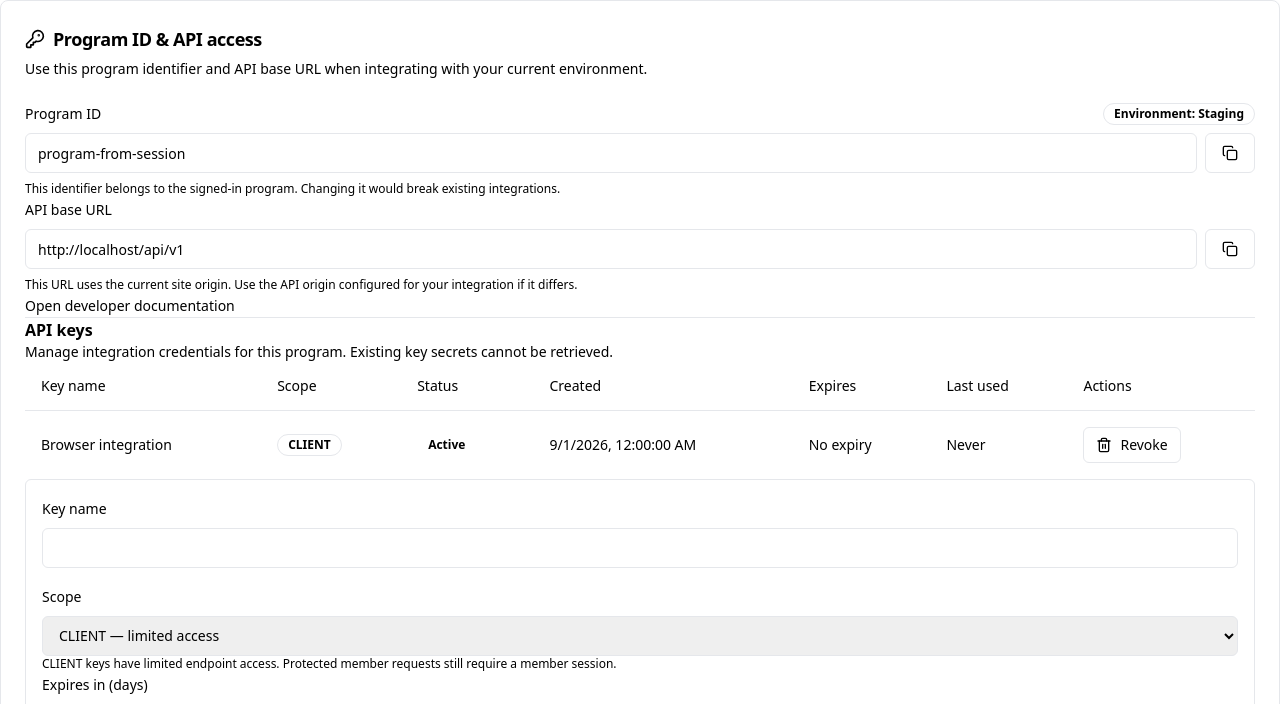
Test case: API access settings › requires a revoke confirmation and updates the metadata after revocation
The image size is (1280, 704).
Click the button with aria-label "Revoke Browser integration" at (1132, 444), box [1083,426,1181,462]
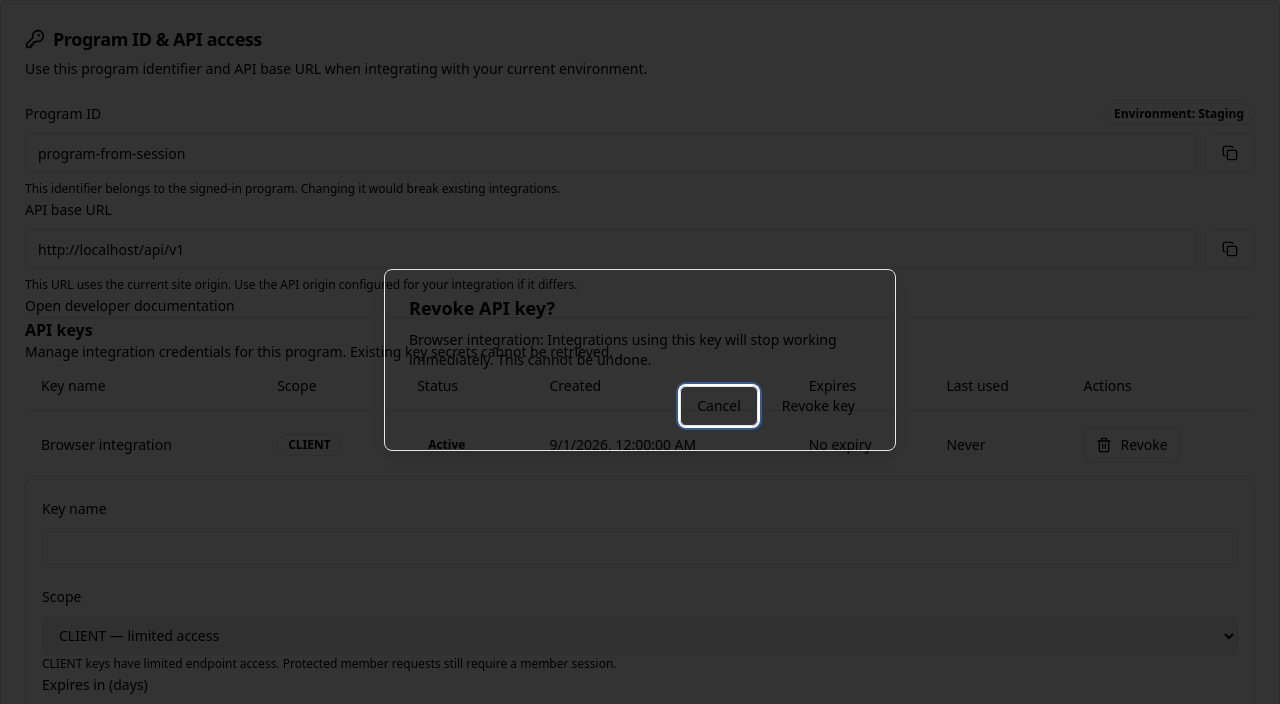
Result: the text "Integrations using this key will stop working immediately" is shown at [409,330,837,369]
Click the button "Cancel" at (719, 406), box [680,386,758,426]
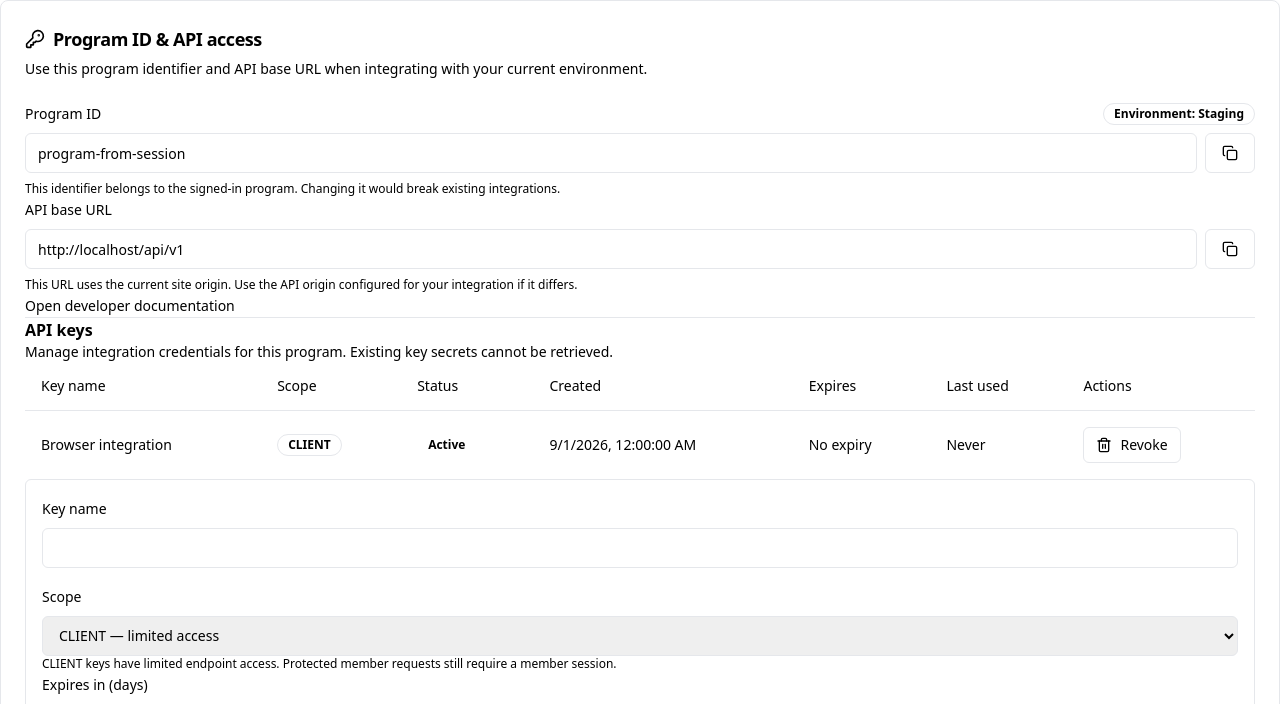
Click the button with aria-label "Revoke Browser integration" at (1132, 444), box [1083,426,1181,462]
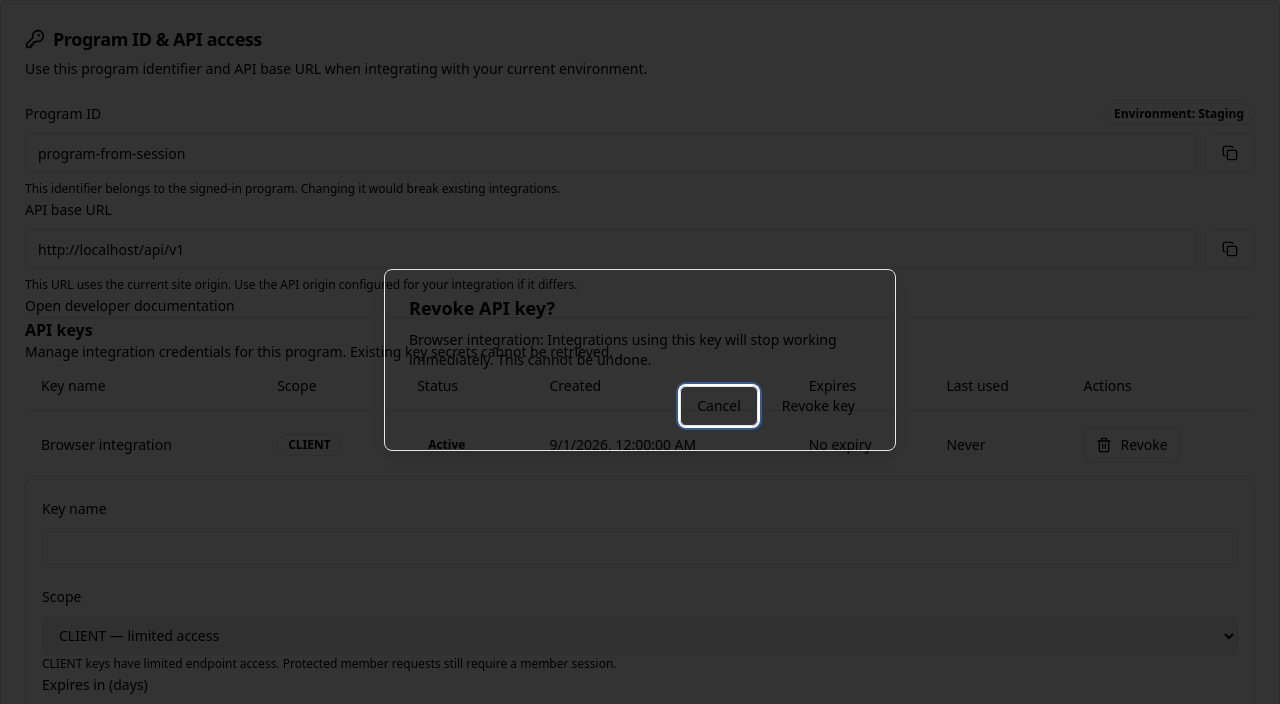
Click the button "Revoke key" at (818, 406), box [766,386,871,426]
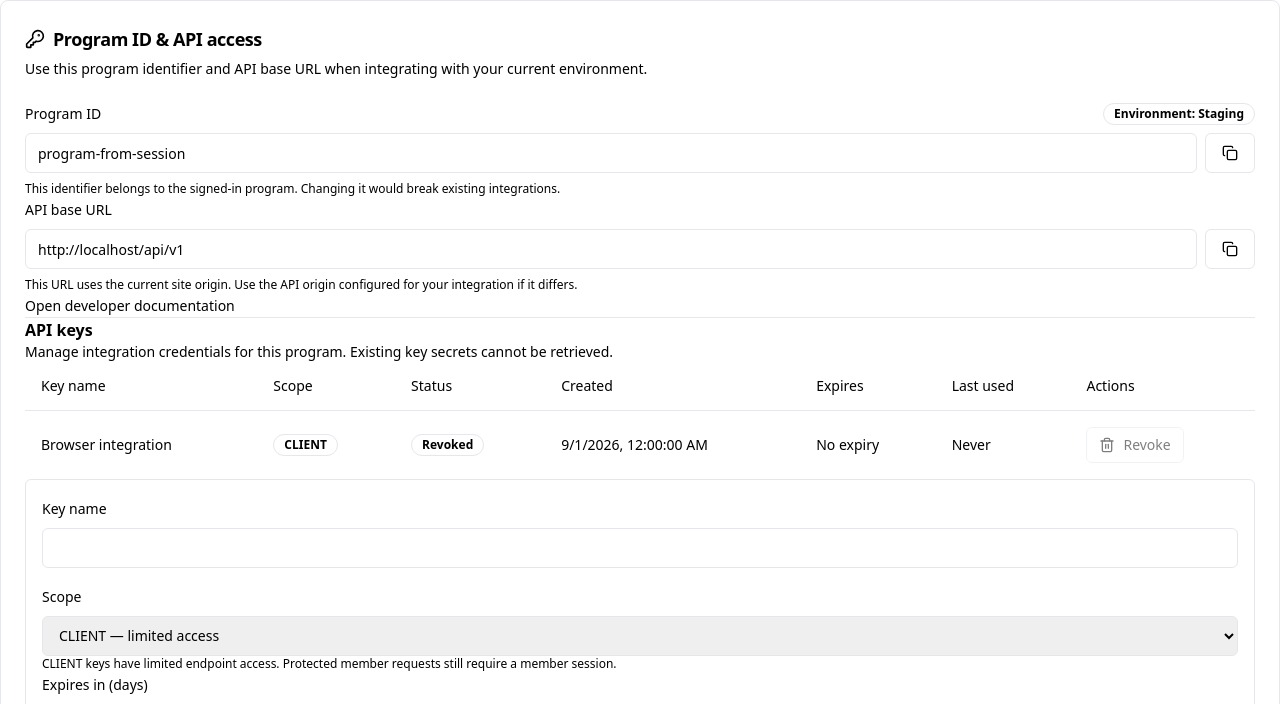
Result: the text "Revoked" is shown at [411,434,484,456]
Result: the button with aria-label "Revoke Browser integration" is disabled at [1086,426,1184,462]
